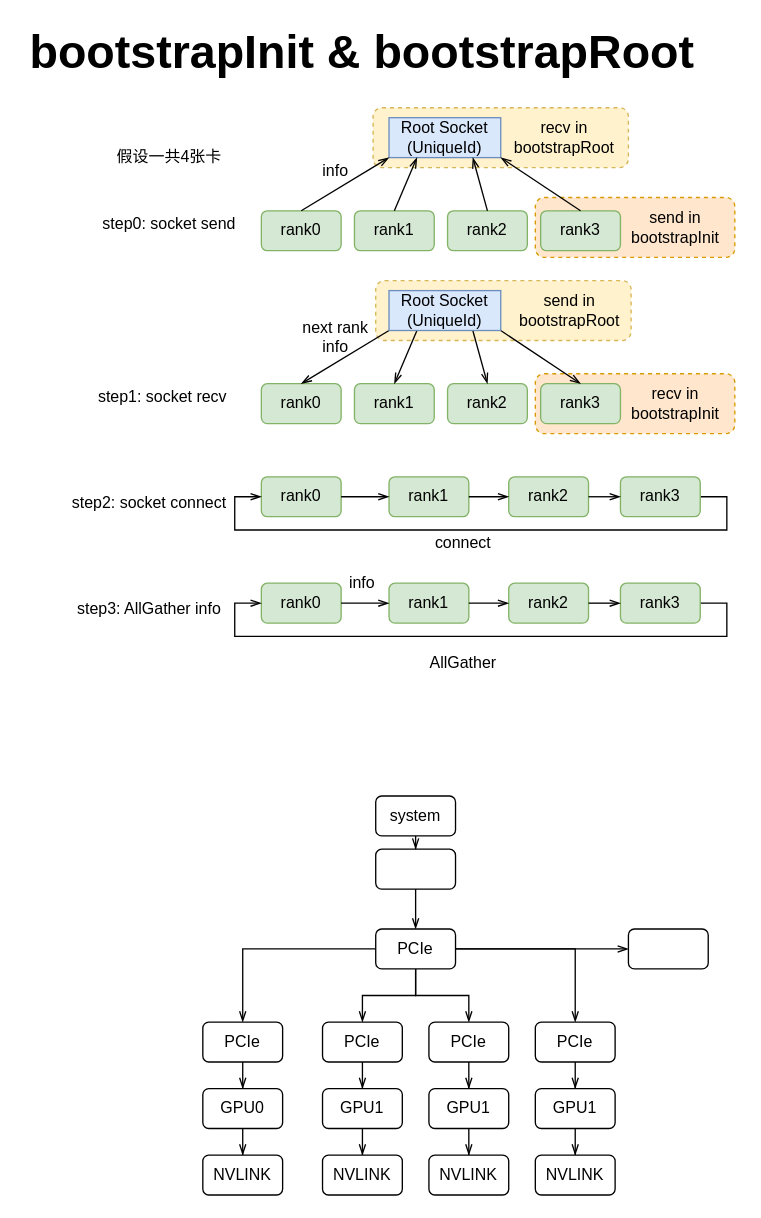
Image size: 761x1218. Some labels were removed from this diagram. Each missing label, with the box of its shape:
CPU: (374, 848, 456, 889)
NIC: (627, 928, 708, 969)
